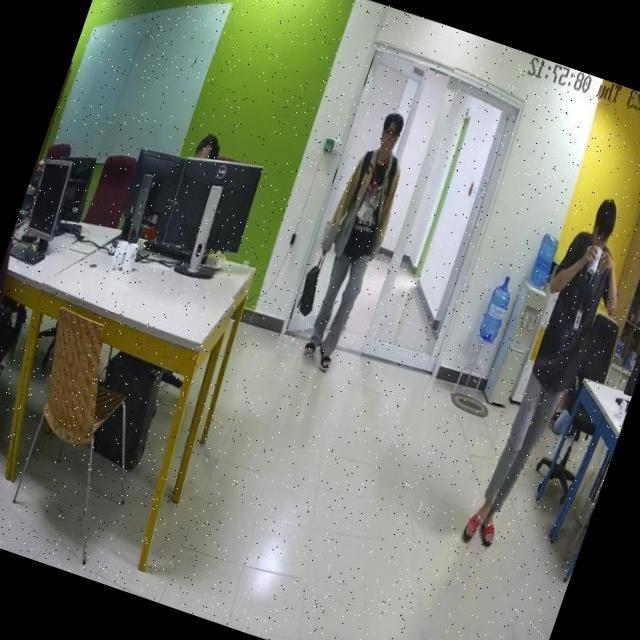person: (457, 191, 640, 560), (285, 101, 428, 376)
